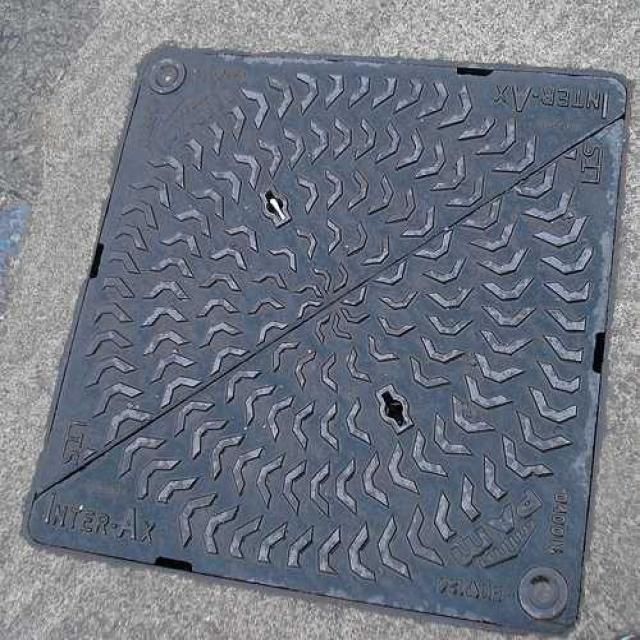manhole: (24, 47, 629, 632)
